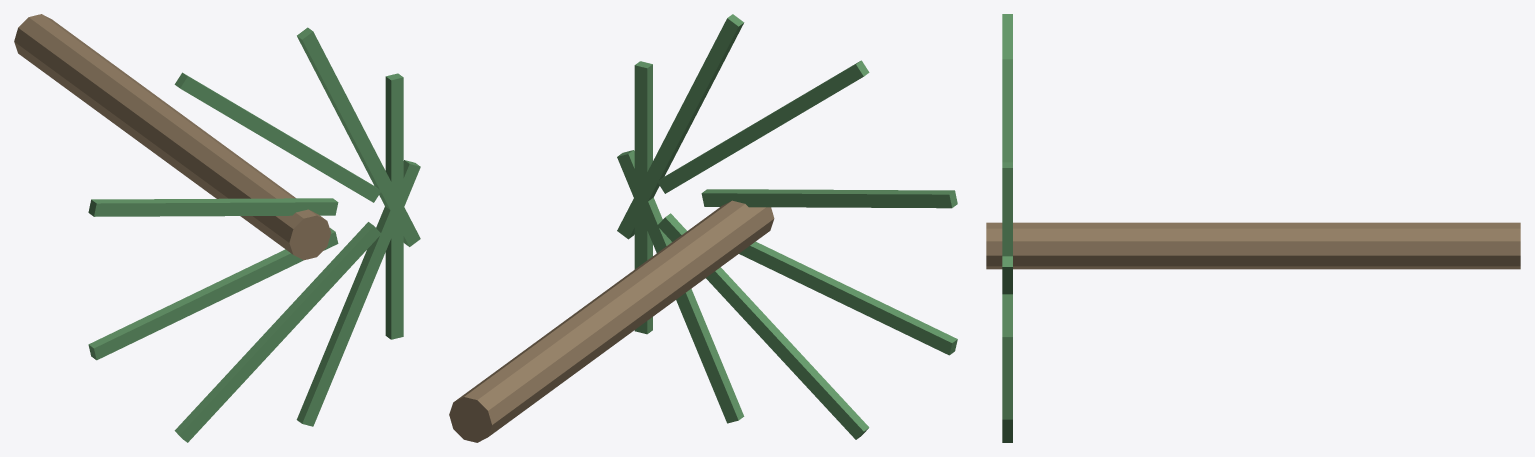
File: palm_tree_01.glb
3 views of the same model, side by side, from view 1: azimuth 30°, elevation 25°; view 2: azimuth 150°, elevation 25°; view 3: azimuth 270°, elevation 25° (orthographic). The views are drawn at different scales.
Visible parts, largest first — view 1: trunk, frond_6, frond_3, frond_2, frond_5, frond_0, frond_4, frond_1; view 2: trunk, frond_6, frond_5, frond_2, frond_3, frond_4, frond_1, frond_0; view 3: trunk, frond_0, frond_4, frond_3.
Boxes of the visible parts, <box> form: trunk: <box>14,14,331,260</box>; frond_6: <box>174,222,380,442</box>; frond_3: <box>296,160,420,426</box>; frond_2: <box>88,228,338,360</box>; frond_5: <box>88,198,338,216</box>; frond_0: <box>385,73,403,339</box>; frond_4: <box>297,27,420,246</box>; frond_1: <box>174,72,380,202</box>; trunk: <box>449,200,774,442</box>; frond_6: <box>657,213,869,439</box>; frond_5: <box>701,189,957,208</box>; frond_2: <box>739,241,957,355</box>; frond_3: <box>617,150,744,423</box>; frond_4: <box>617,14,744,239</box>; frond_1: <box>657,60,869,193</box>; frond_0: <box>634,61,652,334</box>; trunk: <box>986,222,1520,269</box>; frond_0: <box>1002,162,1012,419</box>; frond_4: <box>1002,59,1012,337</box>; frond_3: <box>1002,256,1012,442</box>.
Bounding box in the file's own units: 3.43 × 3.96 × 5.
